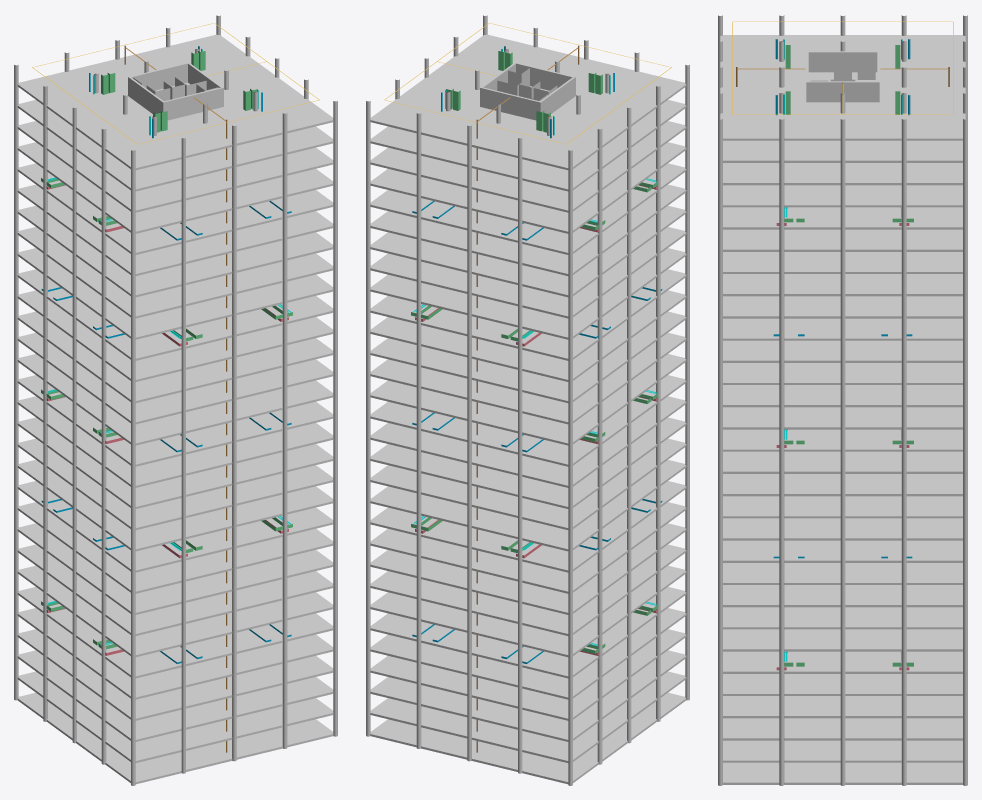
The model's file is High_Rise-01.glb.
3 renders of one model, left to right at view 1: azimuth 30°, elevation 25°; view 2: azimuth 150°, elevation 25°; view 3: azimuth 270°, elevation 25°, orthographic. The views are drawn at different scales.
Parts seen in each view (by area): view 1: Slab_L29, Slab_L1, Slab_L23, Slab_L6, Slab_L13, Slab_L16, Slab_L24, Slab_L28, Slab_L0, Slab_L4, Slab_L11, Slab_L14 (+29 smaller); view 2: Slab_L29, Slab_L1, Slab_L23, Slab_L6, Slab_L13, Slab_L16, Slab_L24, Slab_L28, Slab_L0, Slab_L4, Slab_L11, Slab_L14 (+29 smaller); view 3: Slab_L29, Slab_L2, Slab_L6, Slab_L11, Slab_L16, Slab_L21, Slab_L0, Slab_L1, Slab_L3, Slab_L7, Slab_L8, Slab_L12 (+24 smaller).
Boxes of the visible parts, left/top/right/bottom form: Slab_L29: left=17, top=34, right=333, bottom=170; Slab_L1: left=17, top=671, right=333, bottom=762; Slab_L23: left=17, top=205, right=333, bottom=297; Slab_L6: left=17, top=565, right=333, bottom=657; Slab_L13: left=17, top=417, right=333, bottom=508; Slab_L16: left=17, top=354, right=333, bottom=445; Slab_L24: left=17, top=184, right=333, bottom=275; Slab_L28: left=17, top=100, right=333, bottom=191; Slab_L0: left=17, top=692, right=333, bottom=784; Slab_L4: left=17, top=608, right=333, bottom=699; Slab_L11: left=17, top=460, right=333, bottom=551; Slab_L14: left=17, top=396, right=333, bottom=487; Slab_L29: left=370, top=34, right=686, bottom=170; Slab_L1: left=370, top=671, right=686, bottom=762; Slab_L23: left=370, top=205, right=686, bottom=297; Slab_L6: left=370, top=565, right=686, bottom=657; Slab_L13: left=370, top=417, right=686, bottom=508; Slab_L16: left=370, top=354, right=686, bottom=445; Slab_L24: left=370, top=184, right=686, bottom=275; Slab_L28: left=370, top=100, right=686, bottom=191; Slab_L0: left=370, top=692, right=686, bottom=784; Slab_L4: left=370, top=608, right=686, bottom=699; Slab_L11: left=370, top=460, right=686, bottom=551; Slab_L14: left=370, top=396, right=686, bottom=487; Slab_L29: left=720, top=35, right=965, bottom=140; Slab_L2: left=723, top=718, right=962, bottom=740; Slab_L6: left=723, top=629, right=962, bottom=651; Slab_L11: left=723, top=518, right=962, bottom=540; Slab_L16: left=723, top=407, right=962, bottom=429; Slab_L21: left=723, top=296, right=962, bottom=318; Slab_L0: left=723, top=762, right=962, bottom=784; Slab_L1: left=723, top=740, right=962, bottom=762; Slab_L3: left=723, top=696, right=962, bottom=718; Slab_L7: left=723, top=607, right=962, bottom=629; Slab_L8: left=723, top=585, right=962, bottom=607; Slab_L12: left=723, top=496, right=962, bottom=518.
Bounding box in the file's own units: 30.6 × 90 × 30.6.
